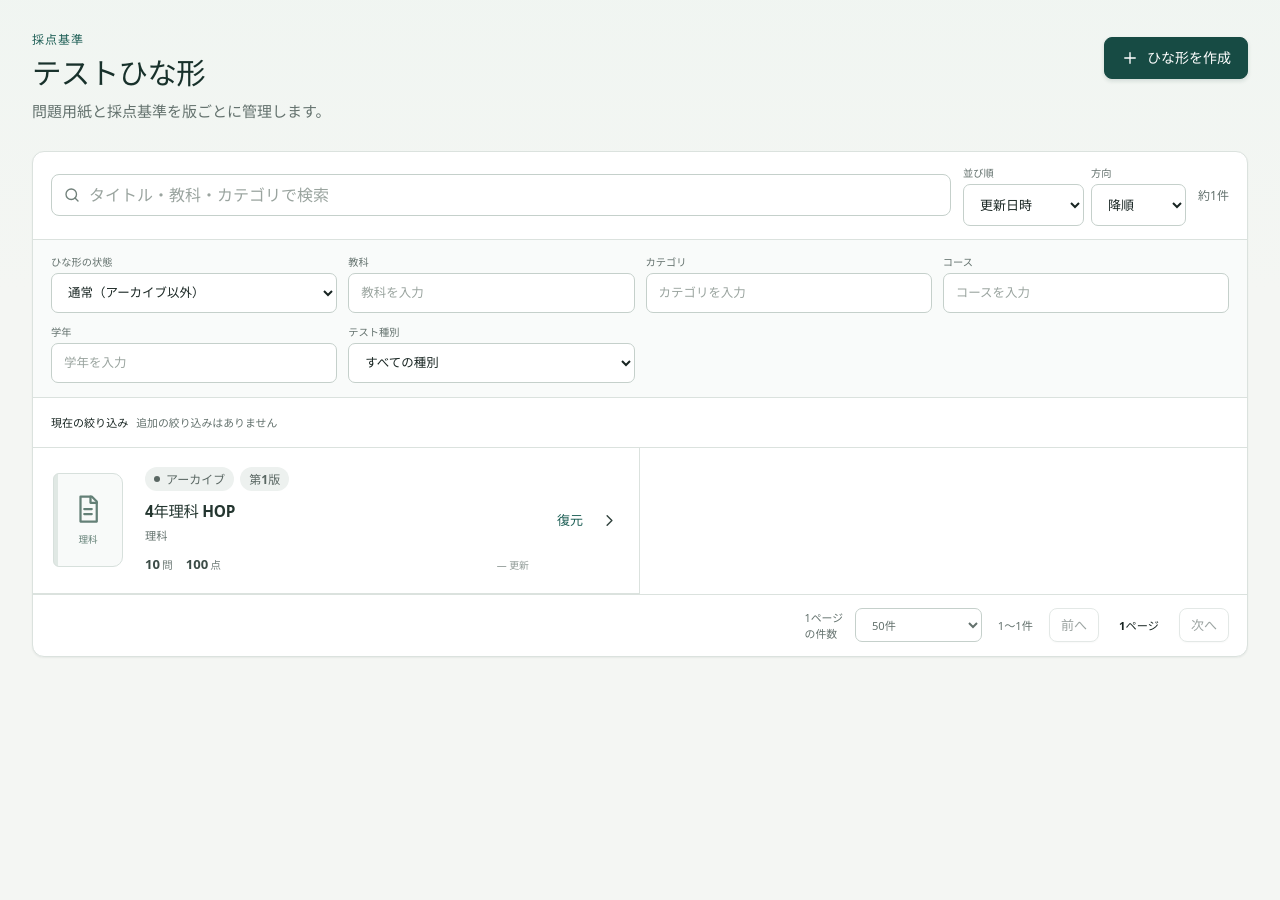
Test: TemplatesPage lifecycle actions › restores an archived template after confirmation
Click the button "復元" at (570, 520), box [545,503,595,537]
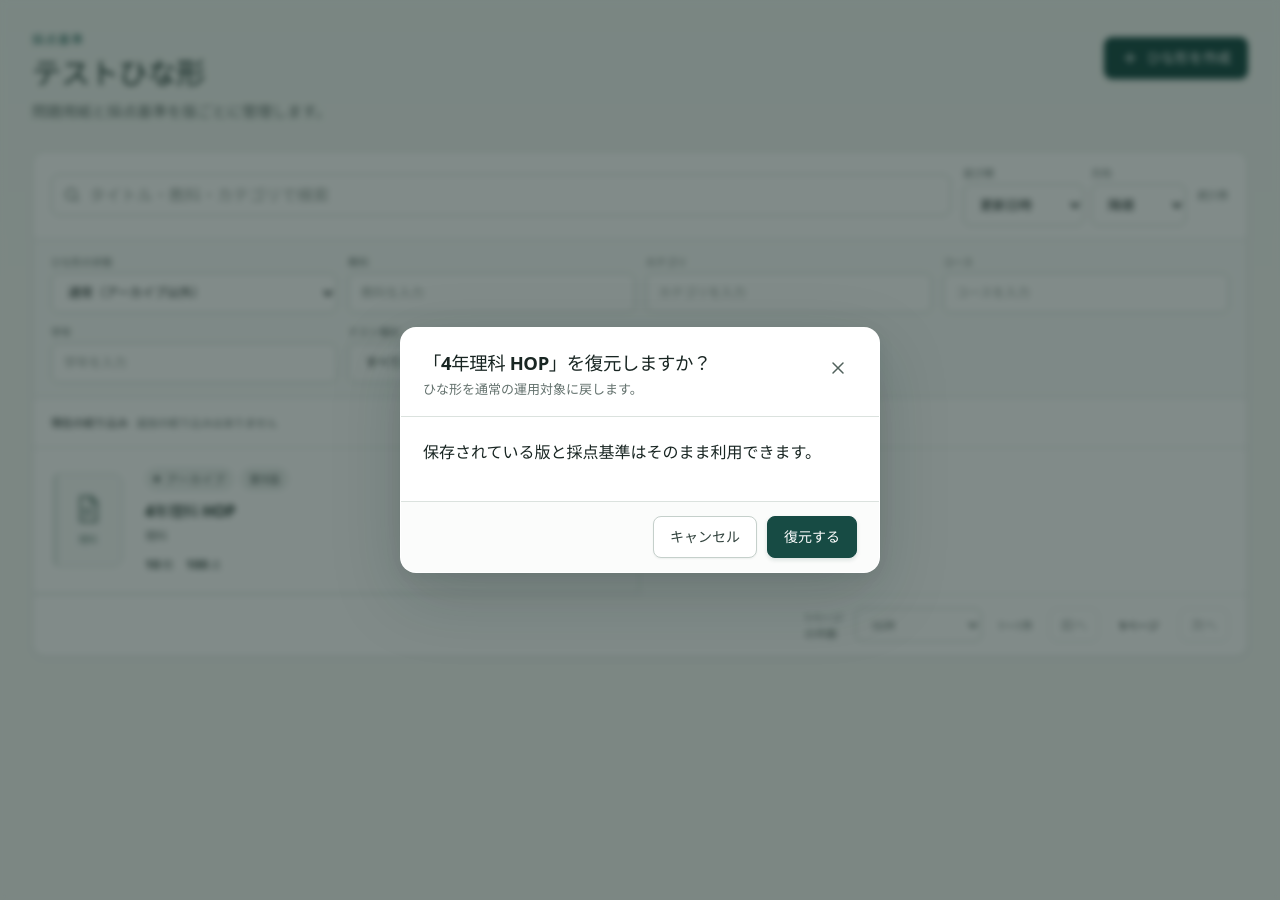
Expected: the heading "「4年理科 HOP」を復元しますか？" is shown, [423,349,711,375]
Click the button "復元する" at (812, 537), box [767,516,857,558]
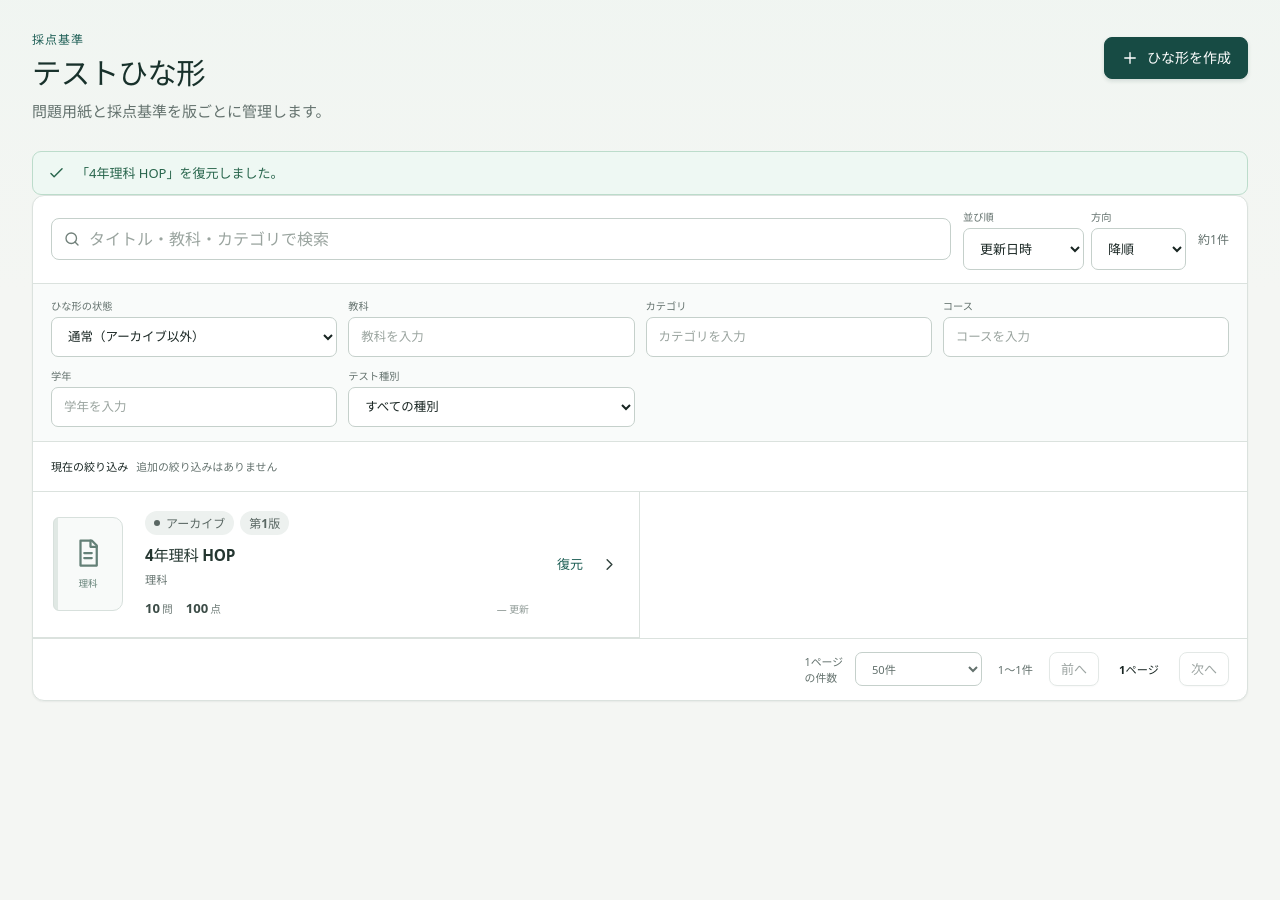
Expected: the text "「4年理科 HOP」を復元しました。" is shown, [76,164,284,182]
